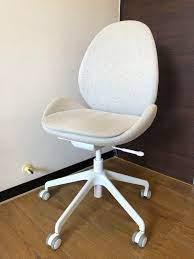chair: (18, 20, 172, 250)
